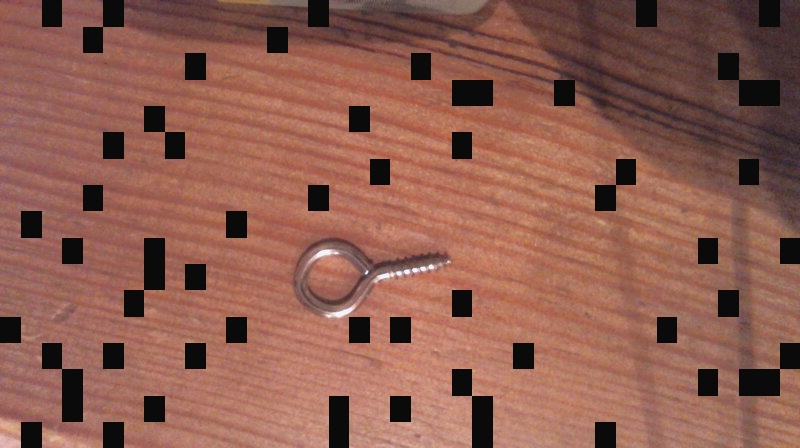O001: (291, 235, 455, 322)
